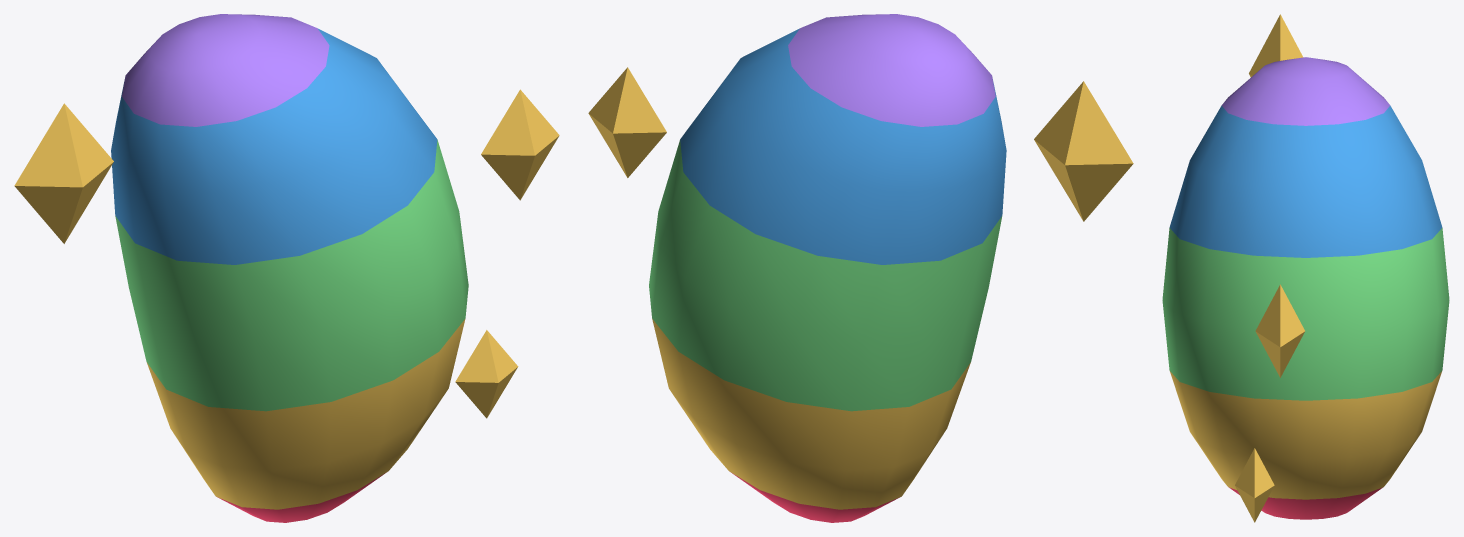
File: bonus_bean.glb
3 renders of one model, left to right at view 1: azimuth 30°, elevation 25°; view 2: azimuth 150°, elevation 25°; view 3: azimuth 270°, elevation 25°, orthographic. The views are drawn at different scales.
Parts seen in each view (by area): view 1: bonus_bean; view 2: bonus_bean; view 3: bonus_bean.
Boxes of the visible parts, x1,y1,x2,y2 form: bonus_bean: [14, 14, 559, 522]; bonus_bean: [588, 14, 1133, 522]; bonus_bean: [1162, 14, 1449, 522].
Size of the model in its own units: 0.415 by 0.3619 by 0.224.
